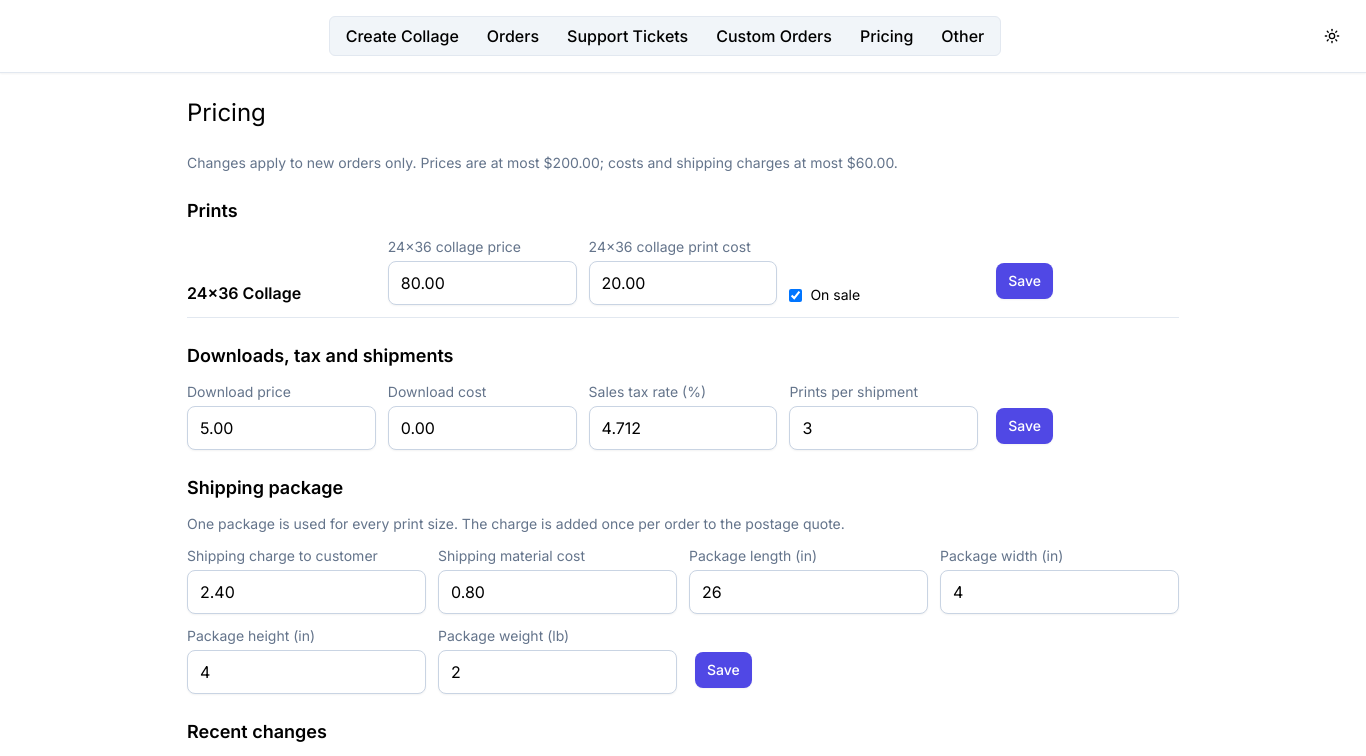
Test: AdminPricing › blocks impossible package dimensions
Replace the text in the field labelled "Package weight (lb)" with "0" at (558, 672), box left=438, top=650, right=677, bottom=694
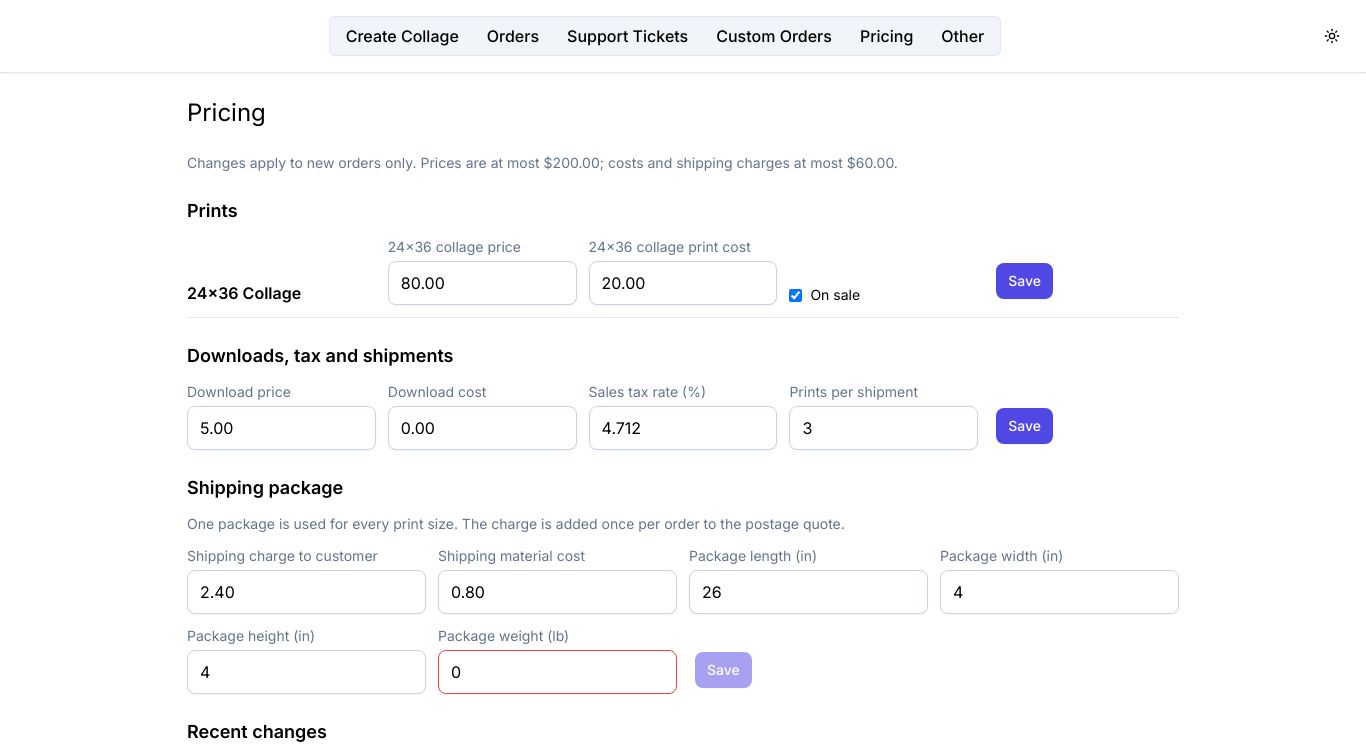
Expected: the button "Save" below "Package weight (lb)" is disabled, left=695, top=652, right=752, bottom=688
